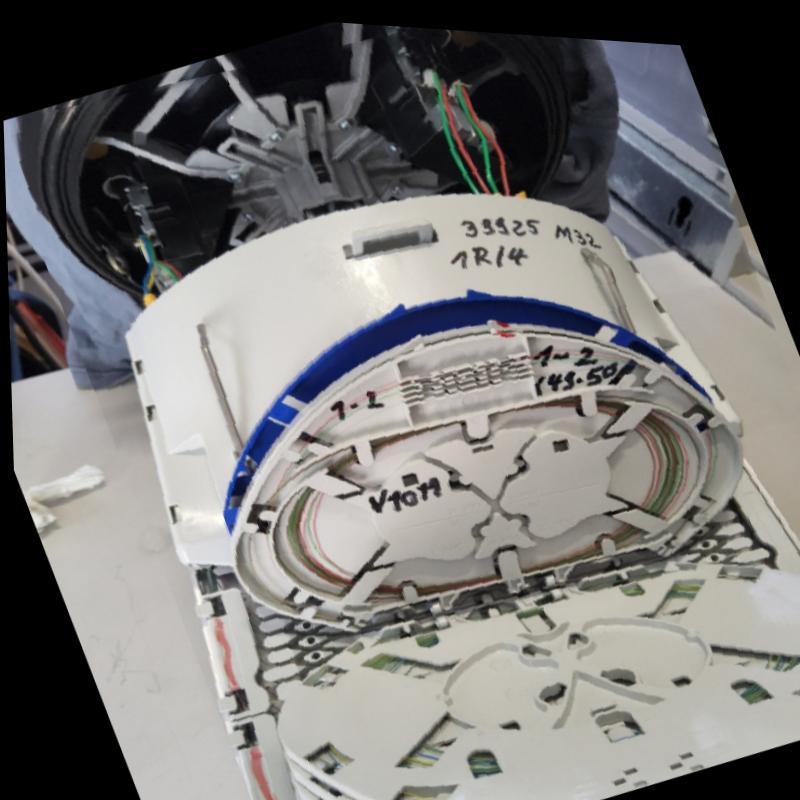NT-Muffen: (21, 21, 800, 800)
